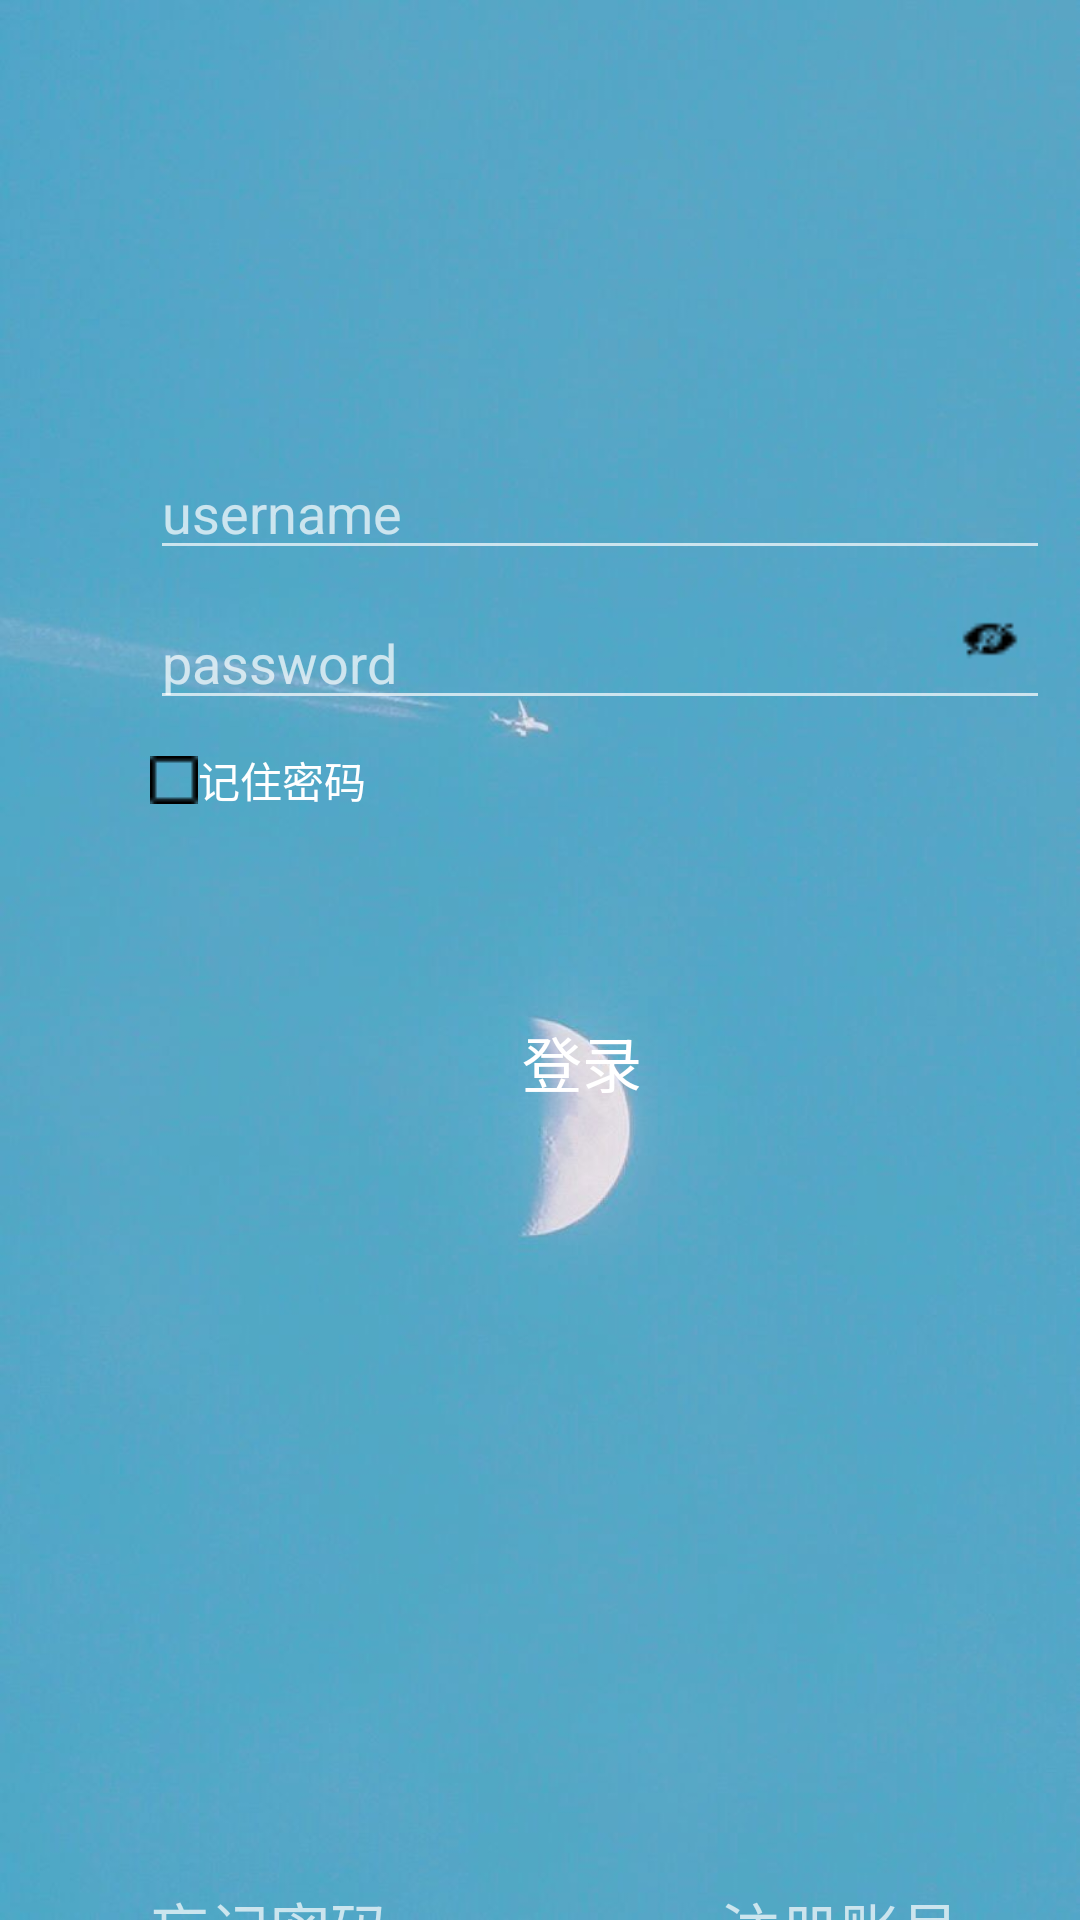

Named icons in this screenshot (1080w x 1920h) and their centers, (x=x, y=y):
eye close: (x=990, y=639)
